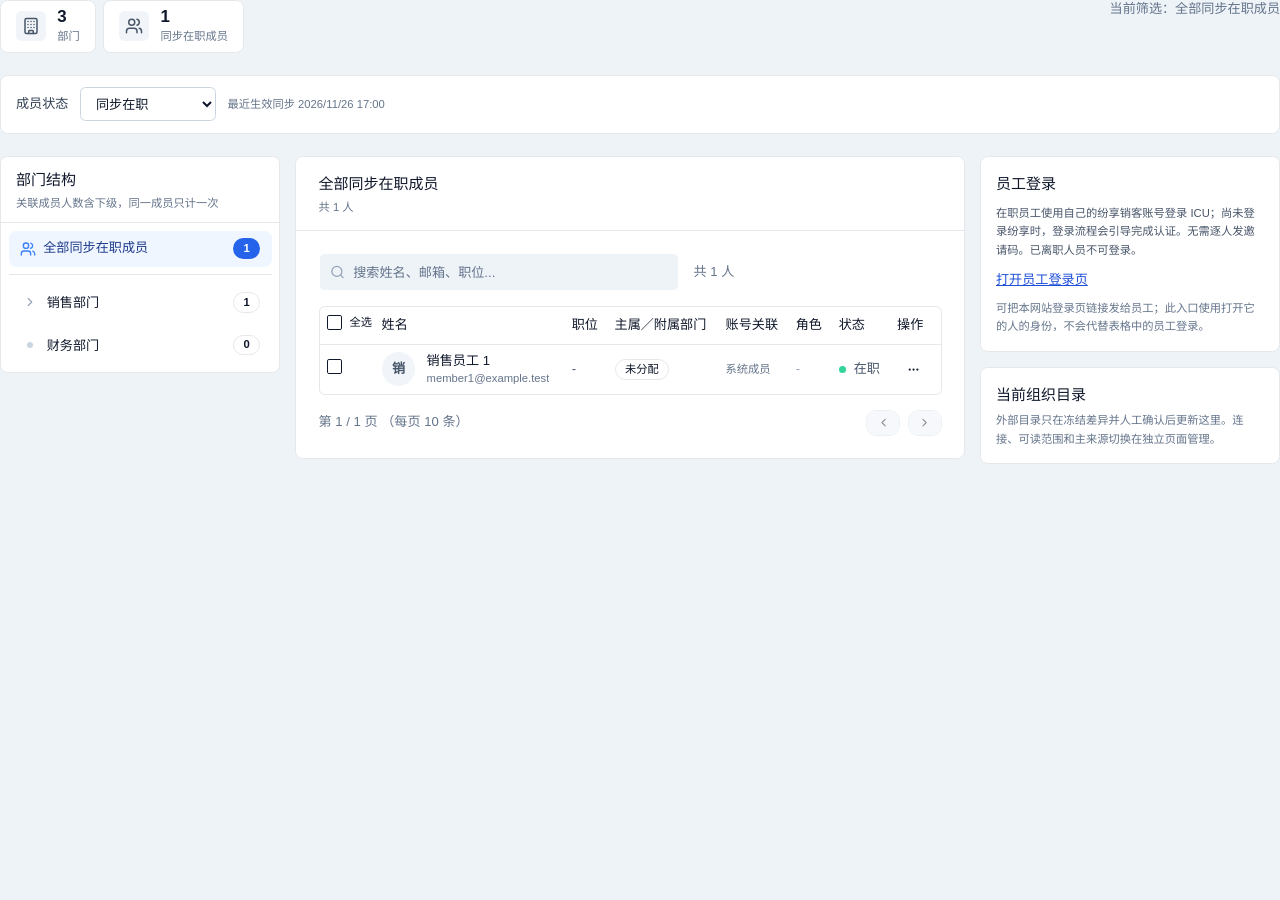
Test: keeps an unconfirmed entry selected and re-reads the roster without retrying the write
This screenshot has width=1280, height=900.
Click the checkbox named "选择销售员工 1". click: (334, 367)
box: [327,359,342,374]
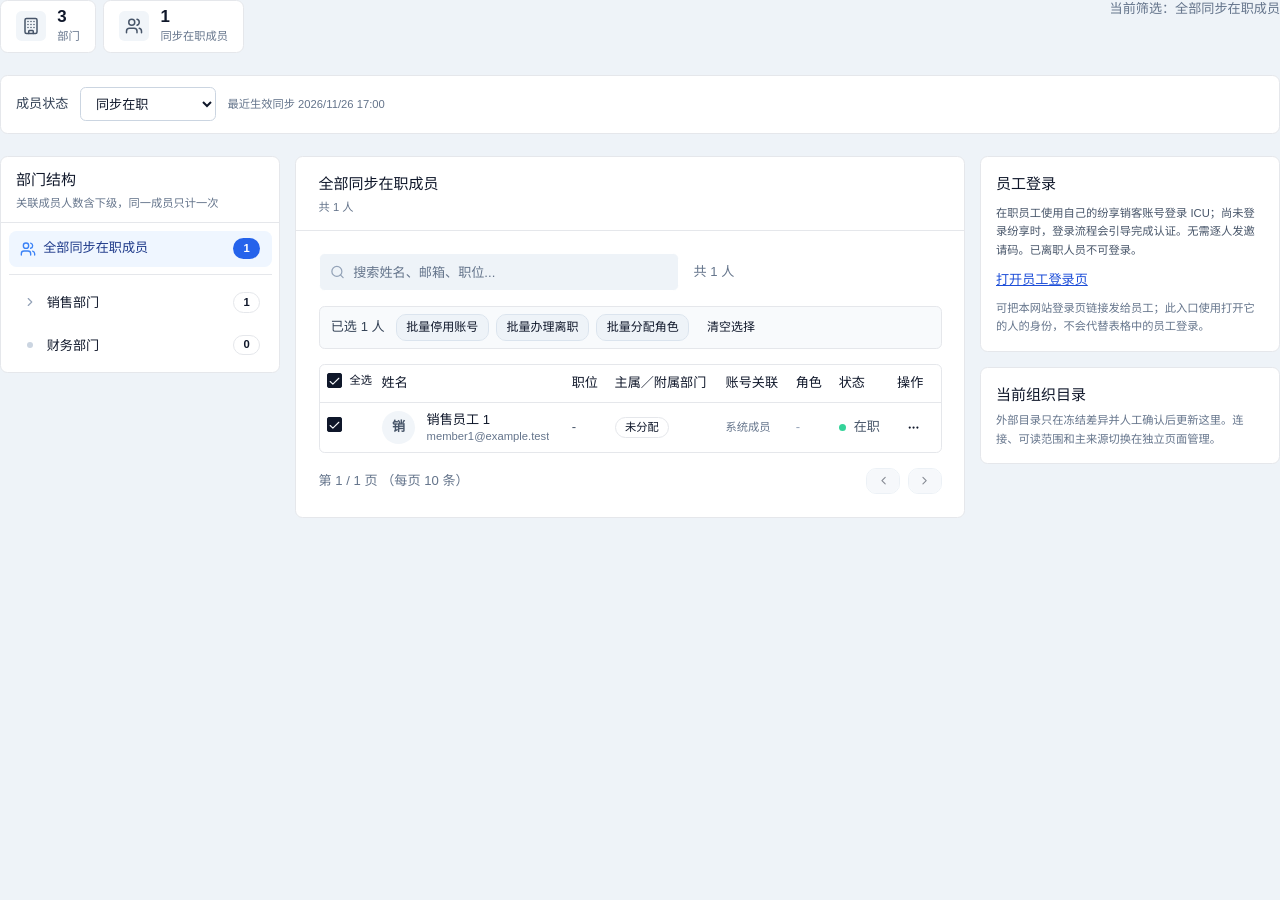
Click the button "批量停用账号". click: (442, 328)
box: [396,314,489,341]
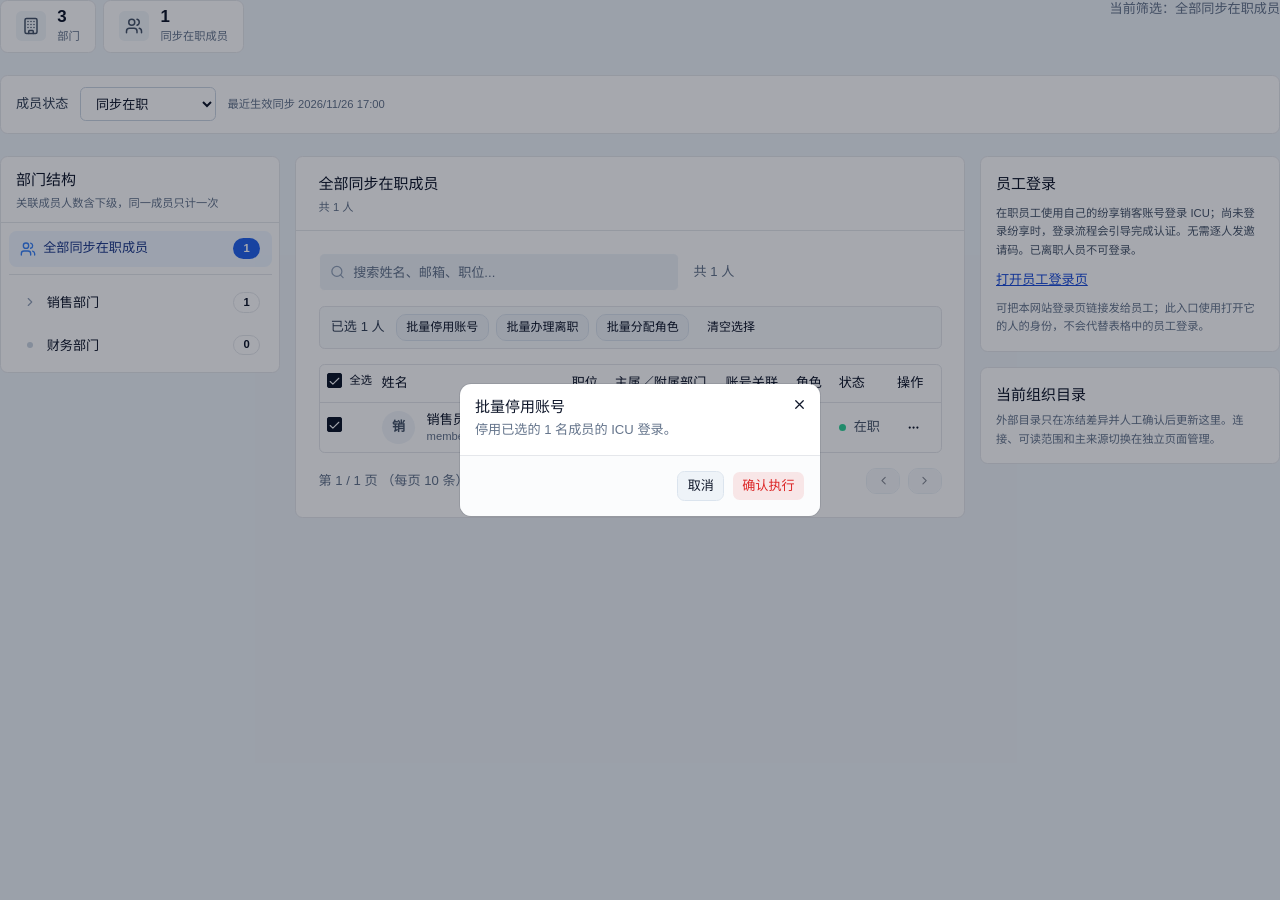
Click the button "确认执行". click: (768, 486)
box: [732,471,805,501]
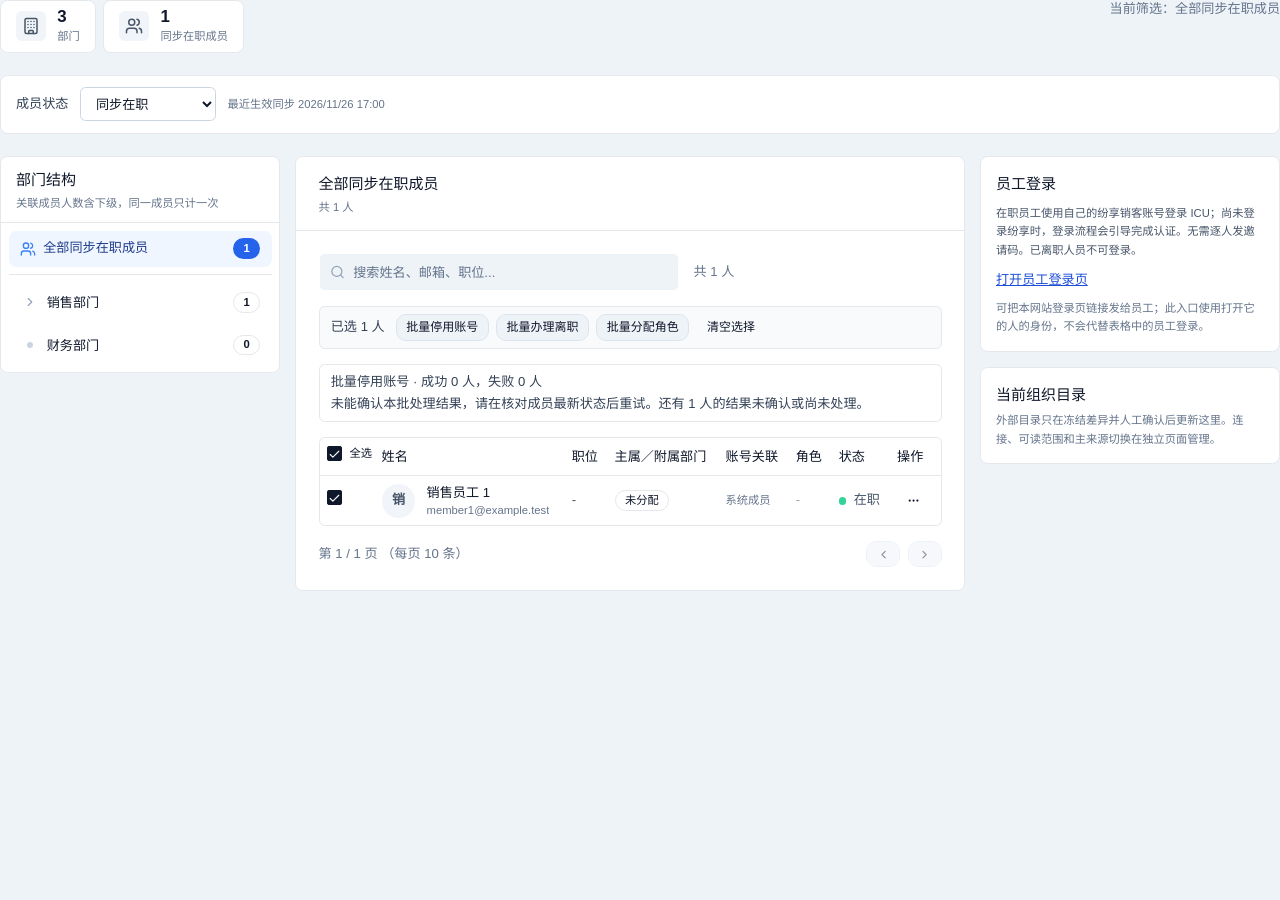
Now the checkbox named "选择销售员工 1" is checked, box [327,490,342,505]
Now the text "未能确认本批处理结果" is shown, box [331,396,870,411]
